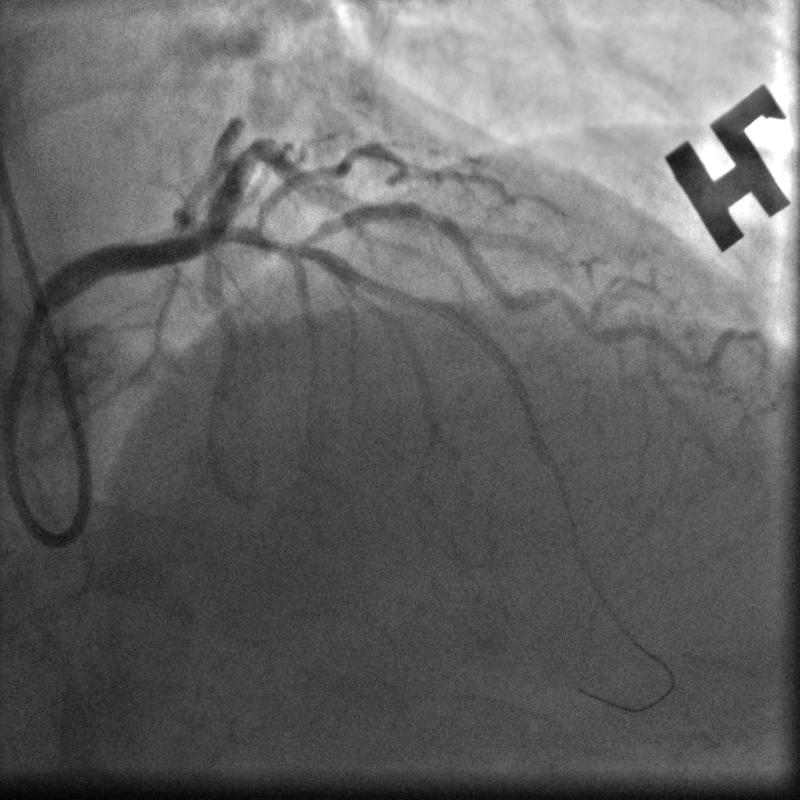Stenosis: (415, 195, 450, 237)
